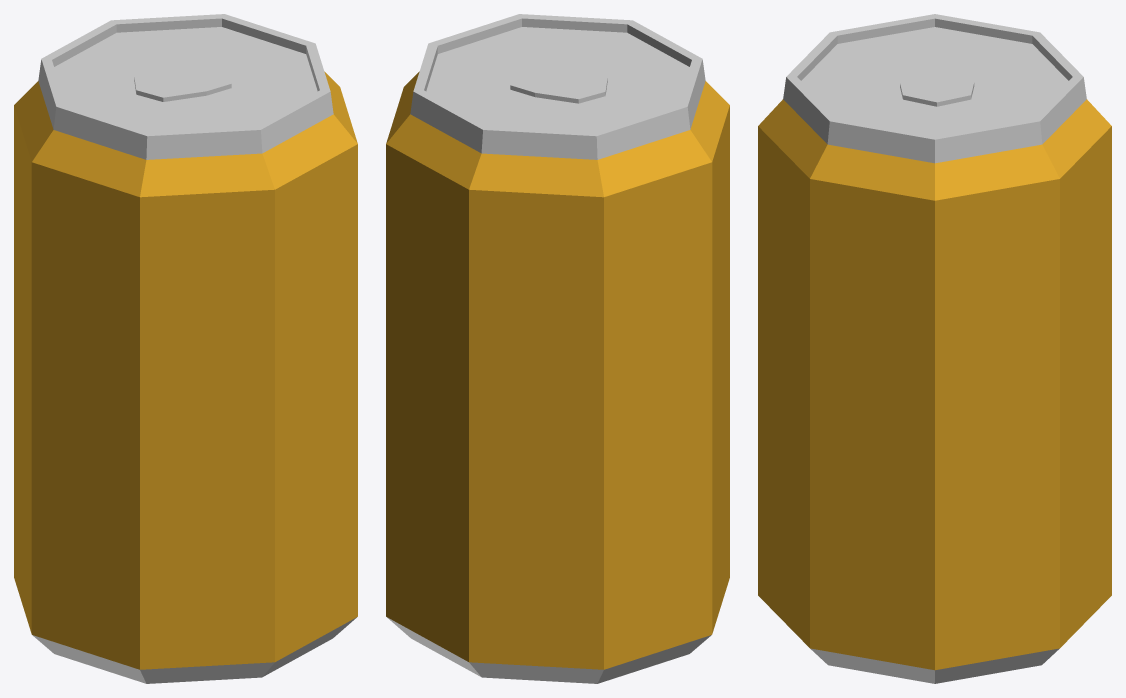
The model's file is C_Juice_Can_2.fbx.
3 renders of one model, left to right at view 1: azimuth 30°, elevation 25°; view 2: azimuth 150°, elevation 25°; view 3: azimuth 270°, elevation 25°, orthographic.
Visible parts, largest first — view 1: C_Juice_Can_2; view 2: C_Juice_Can_2; view 3: C_Juice_Can_2.
Part boxes in pixels (x1,y1,x2,y2): C_Juice_Can_2: [14, 14, 357, 683]; C_Juice_Can_2: [386, 14, 729, 683]; C_Juice_Can_2: [758, 14, 1111, 683].
Bounding box in the file's own units: 62.64 × 62.64 × 106.
